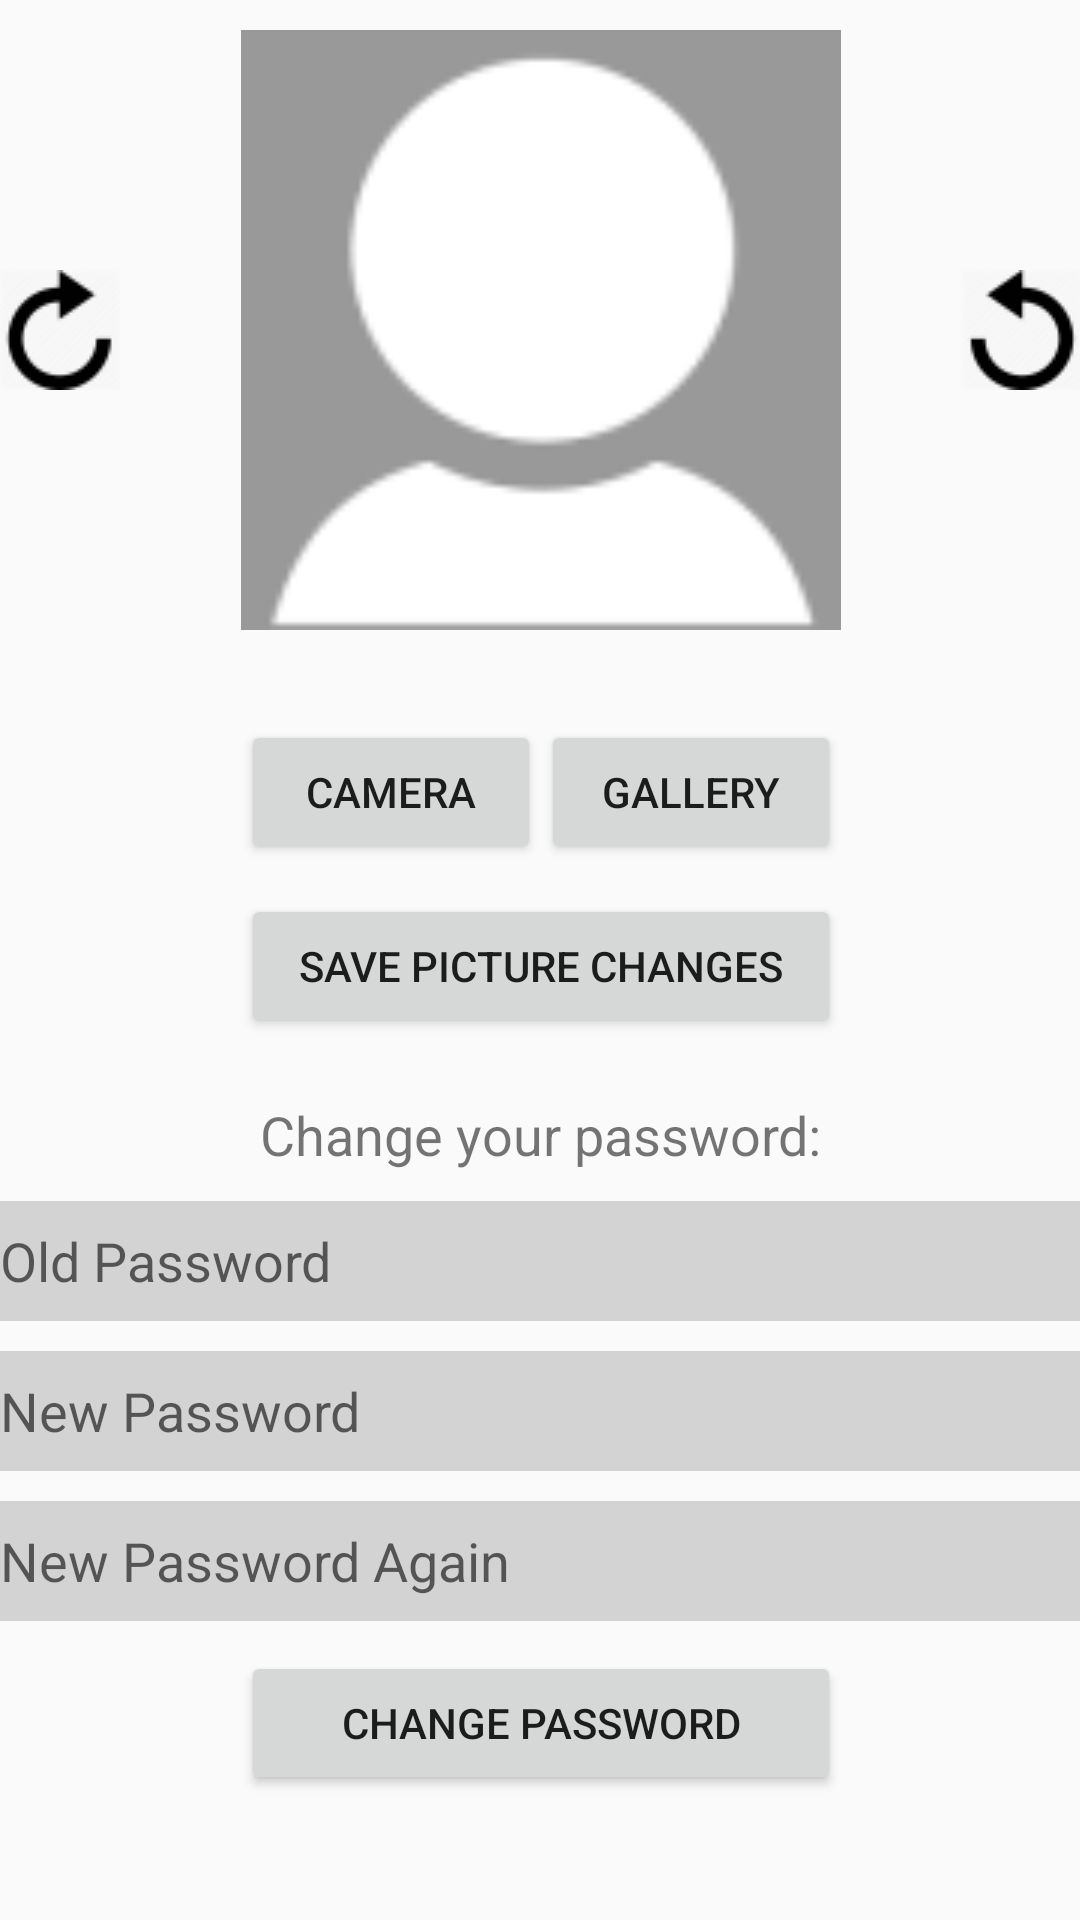

Icons on this 1080 x 1920 Android screen, each with the point to tap as [x,y]:
rotate left: [1022,330]
rotate right: [59,330]
